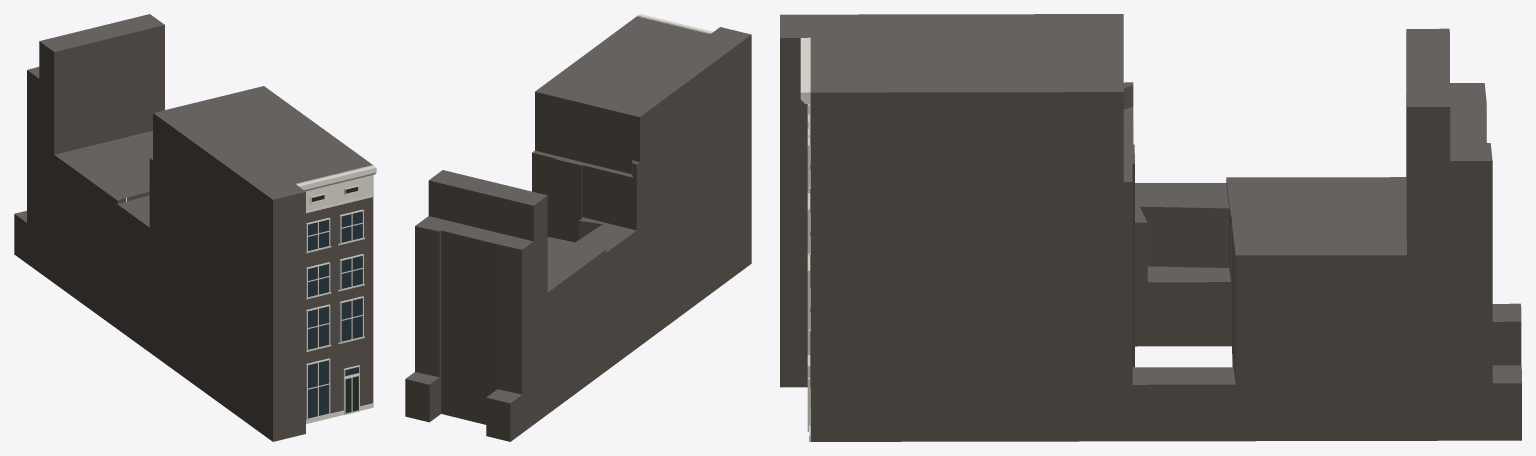
3 renders of one model, left to right at view 1: azimuth 30°, elevation 25°; view 2: azimuth 150°, elevation 25°; view 3: azimuth 270°, elevation 25°, orthographic. The views are drawn at different scales.
Parts seen in each view (by area): view 1: spec-0363100012167709; view 2: spec-0363100012167709; view 3: spec-0363100012167709.
Part boxes in pixels (x1=…): spec-0363100012167709: x1=14, y1=14, x2=376, y2=441; spec-0363100012167709: x1=405, y1=14, x2=751, y2=441; spec-0363100012167709: x1=780, y1=14, x2=1521, y2=441.
Size of the model in its own units: 8.68 by 17.85 by 34.29.
